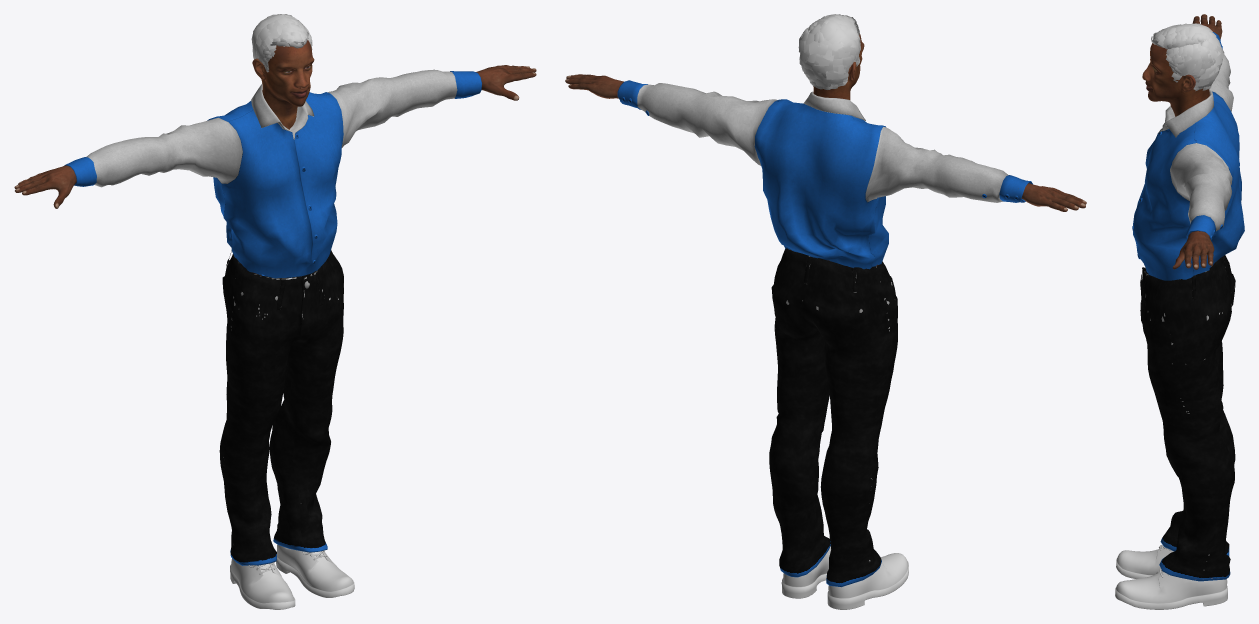
The model's file is male-dancer-blue.obj.
3 views of the same model, side by side, from view 1: azimuth 30°, elevation 25°; view 2: azimuth 150°, elevation 25°; view 3: azimuth 270°, elevation 25° (orthographic).
Parts seen in each view (by area): view 1: Tops, Bottoms, Body, Shoes, Hair; view 2: Bottoms, Tops, Hair, Shoes, Body; view 3: Bottoms, Tops, Shoes, Body, Hair.
Boxes of the visible parts, bbox=[...] form: Tops: bbox=[64, 69, 481, 278]; Bottoms: bbox=[219, 250, 343, 565]; Body: bbox=[14, 40, 536, 275]; Shoes: bbox=[230, 544, 354, 609]; Hair: bbox=[251, 14, 312, 72]; Bottoms: bbox=[769, 248, 897, 587]; Tops: bbox=[617, 80, 1032, 269]; Hair: bbox=[798, 14, 860, 89]; Shoes: bbox=[781, 538, 908, 609]; Body: bbox=[565, 33, 1086, 266]; Bottoms: bbox=[1140, 255, 1235, 581]; Tops: bbox=[1132, 32, 1244, 280]; Shoes: bbox=[1115, 545, 1227, 609]; Body: bbox=[1142, 14, 1222, 269]; Hair: bbox=[1151, 23, 1223, 91].
Bounding box in the file's own units: 175 × 183 × 38.1.
